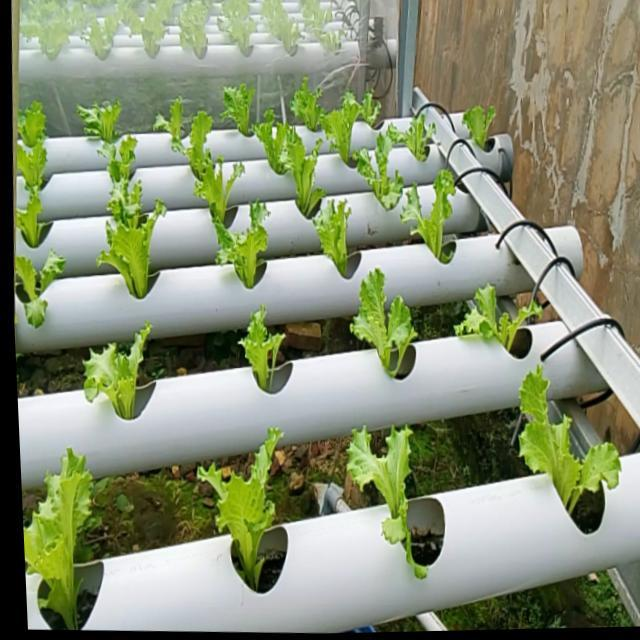Baby: (522, 359, 624, 507), (199, 422, 283, 585), (23, 445, 95, 630), (349, 420, 431, 572), (352, 261, 419, 370), (174, 130, 246, 225), (86, 319, 152, 416), (457, 274, 549, 341), (268, 120, 327, 216), (402, 163, 458, 257), (209, 75, 268, 160), (104, 212, 159, 297), (354, 123, 406, 207), (323, 87, 382, 161), (18, 249, 67, 327), (241, 301, 285, 385), (108, 154, 149, 243), (230, 199, 269, 285), (314, 195, 353, 274), (390, 103, 438, 158), (19, 109, 49, 192), (154, 96, 193, 153), (79, 99, 123, 143), (292, 74, 326, 129), (464, 98, 498, 139)
